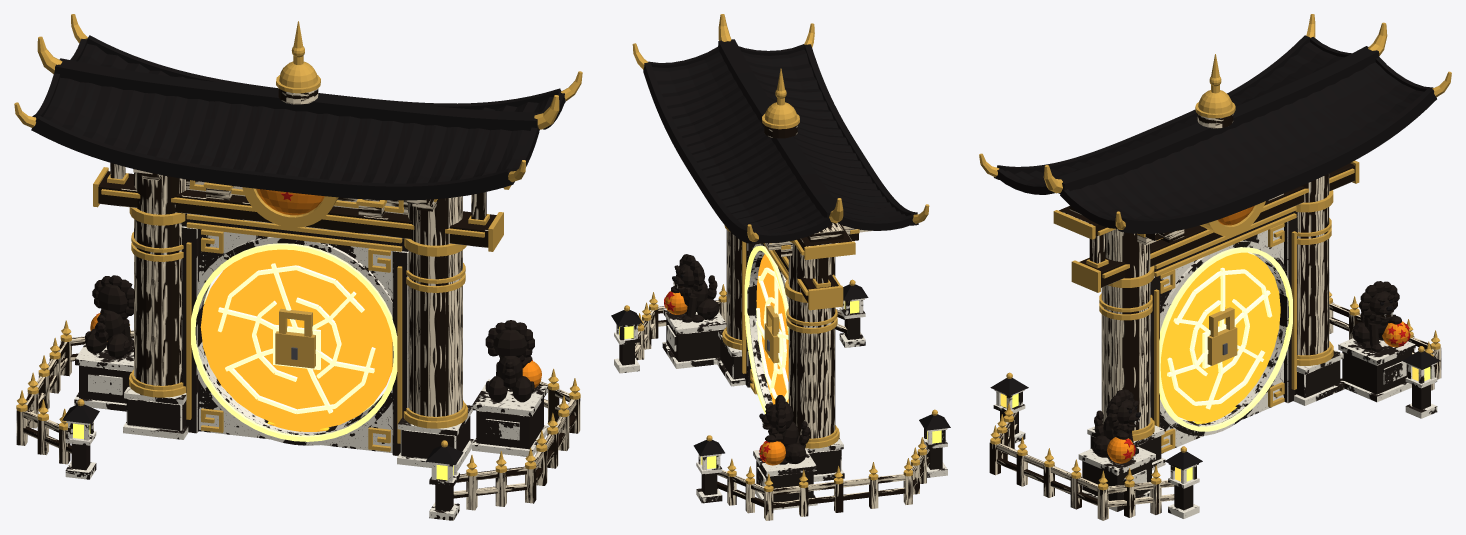
Rendered from ILHA1_08_PURCHASE_GATES_203d27.fbx.
3 renders of one model, left to right at view 1: azimuth 30°, elevation 25°; view 2: azimuth 150°, elevation 25°; view 3: azimuth 270°, elevation 25°, orthographic. The views are drawn at different scales.
Visible parts, largest first — view 1: GATE_DB_Frame__Roof_DBGate_Tile, GATE_DB_Frame__Wood_Lacquer_Red, GATE_DB_Barrier__DB_Energy_Glow, GATE_DB_Frame__Roof_DBGate_Ridge, GATE_DB_Frame__Metal_Gold, GATE_DB_Frame__Stone_Wall_Light_B, GATE_DB_Court__Stone_Wall_Dark, GATE_DB_Court__Stone_Wall_Light, GATE_DB_Court__Wood_Lacquer_Red, GATE_DB_Barrier__Energy_Core_DB_Glow, GATE_DB_OpenGlow__Metal_DBGate_Glow, GATE_DB_Frame__Stone_Paving_Warm (+5 smaller); view 2: GATE_DB_Frame__Roof_DBGate_Tile, GATE_DB_Frame__Wood_Lacquer_Red, GATE_DB_Frame__Roof_DBGate_Ridge, GATE_DB_Court__Stone_Wall_Dark, GATE_DB_Frame__Metal_Gold, GATE_DB_Court__Stone_Wall_Light, GATE_DB_Court__Wood_Lacquer_Red, GATE_DB_Frame__Stone_Wall_Light_B, GATE_DB_Court__Metal_Gold, GATE_DB_Barrier__Energy_Core_DB_Glow, GATE_DB_Barrier__DB_Energy_Glow, GATE_DB_Court__Roof_DBGate_Ridge (+6 smaller); view 3: GATE_DB_Frame__Roof_DBGate_Tile, GATE_DB_Frame__Wood_Lacquer_Red, GATE_DB_Frame__Roof_DBGate_Ridge, GATE_DB_Frame__Metal_Gold, GATE_DB_Barrier__DB_Energy_Glow, GATE_DB_Court__Stone_Wall_Dark, GATE_DB_Frame__Stone_Wall_Light_B, GATE_DB_Court__Stone_Wall_Light, GATE_DB_Court__Wood_Lacquer_Red, GATE_DB_Barrier__Energy_Core_DB_Glow, GATE_DB_OpenGlow__Metal_DBGate_Glow, GATE_DB_Frame__Stone_Paving_Warm (+5 smaller).
Part boxes in pixels (<box>): GATE_DB_Frame__Roof_DBGate_Tile: <box>43,43,553,183</box>; GATE_DB_Frame__Wood_Lacquer_Red: <box>98,88,503,416</box>; GATE_DB_Barrier__DB_Energy_Glow: <box>200,249,392,431</box>; GATE_DB_Frame__Roof_DBGate_Ridge: <box>31,35,565,200</box>; GATE_DB_Frame__Metal_Gold: <box>14,14,582,451</box>; GATE_DB_Frame__Stone_Wall_Light_B: <box>126,213,470,459</box>; GATE_DB_Court__Stone_Wall_Dark: <box>65,309,548,520</box>; GATE_DB_Court__Stone_Wall_Light: <box>68,275,543,511</box>; GATE_DB_Court__Wood_Lacquer_Red: <box>16,330,580,510</box>; GATE_DB_Barrier__Energy_Core_DB_Glow: <box>218,263,375,413</box>; GATE_DB_OpenGlow__Metal_DBGate_Glow: <box>191,243,397,441</box>; GATE_DB_Frame__Stone_Paving_Warm: <box>198,237,392,445</box>; GATE_DB_Frame__Roof_DBGate_Tile: <box>652,49,908,233</box>; GATE_DB_Frame__Wood_Lacquer_Red: <box>726,125,872,438</box>; GATE_DB_Frame__Roof_DBGate_Ridge: <box>643,39,918,243</box>; GATE_DB_Court__Stone_Wall_Dark: <box>614,264,947,510</box>; GATE_DB_Frame__Metal_Gold: <box>632,14,929,448</box>; GATE_DB_Court__Stone_Wall_Light: <box>616,254,945,502</box>; GATE_DB_Court__Wood_Lacquer_Red: <box>635,284,929,520</box>; GATE_DB_Frame__Stone_Wall_Light_B: <box>720,243,841,474</box>; GATE_DB_Court__Metal_Gold: <box>624,279,937,491</box>; GATE_DB_Barrier__Energy_Core_DB_Glow: <box>756,267,788,401</box>; GATE_DB_Barrier__DB_Energy_Glow: <box>756,254,788,404</box>; GATE_DB_Court__Roof_DBGate_Ridge: <box>611,270,950,456</box>; GATE_DB_Frame__Roof_DBGate_Tile: <box>1005,42,1423,219</box>; GATE_DB_Frame__Wood_Lacquer_Red: <box>1059,114,1354,430</box>; GATE_DB_Frame__Roof_DBGate_Ridge: <box>994,35,1436,233</box>; GATE_DB_Frame__Metal_Gold: <box>979,14,1451,453</box>; GATE_DB_Barrier__DB_Energy_Glow: <box>1160,252,1280,424</box>; GATE_DB_Court__Stone_Wall_Dark: <box>993,291,1437,518</box>; GATE_DB_Frame__Stone_Wall_Light_B: <box>1090,211,1340,462</box>; GATE_DB_Court__Stone_Wall_Light: <box>996,281,1434,510</box>; GATE_DB_Court__Wood_Lacquer_Red: <box>989,302,1441,520</box>; GATE_DB_Barrier__Energy_Core_DB_Glow: <box>1167,267,1272,409</box>; GATE_DB_OpenGlow__Metal_DBGate_Glow: <box>1159,247,1292,431</box>; GATE_DB_Frame__Stone_Paving_Warm: <box>1160,240,1286,435</box>.
Size of the model in its own units: 42.23 by 36.85 by 42.23.
11 materials, 3 textured.
